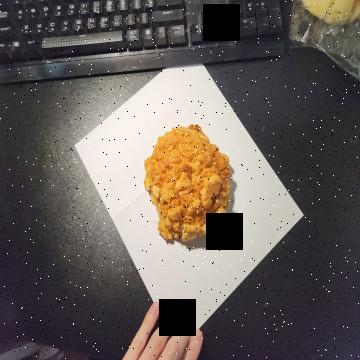soboru_bread: (142, 125, 233, 246)
